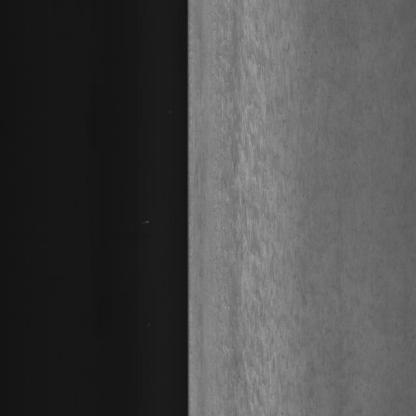silk_spot: (217, 10, 280, 382)
